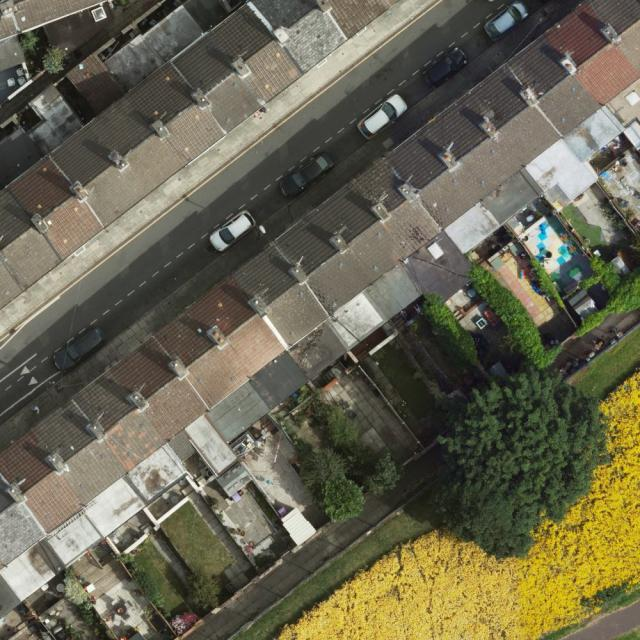roof: (0, 0, 640, 619), (0, 0, 400, 313), (2, 0, 115, 60)
skylight: (90, 5, 107, 22)
solar: (425, 241, 446, 260)
